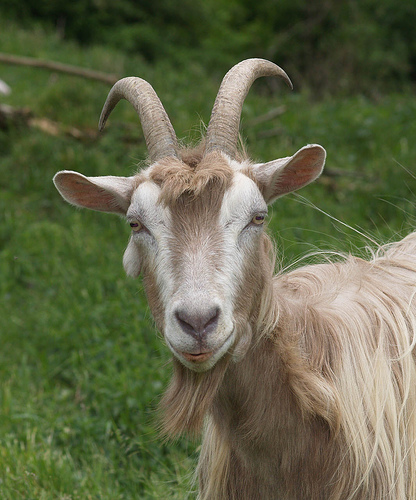goat: (52, 56, 415, 500)
